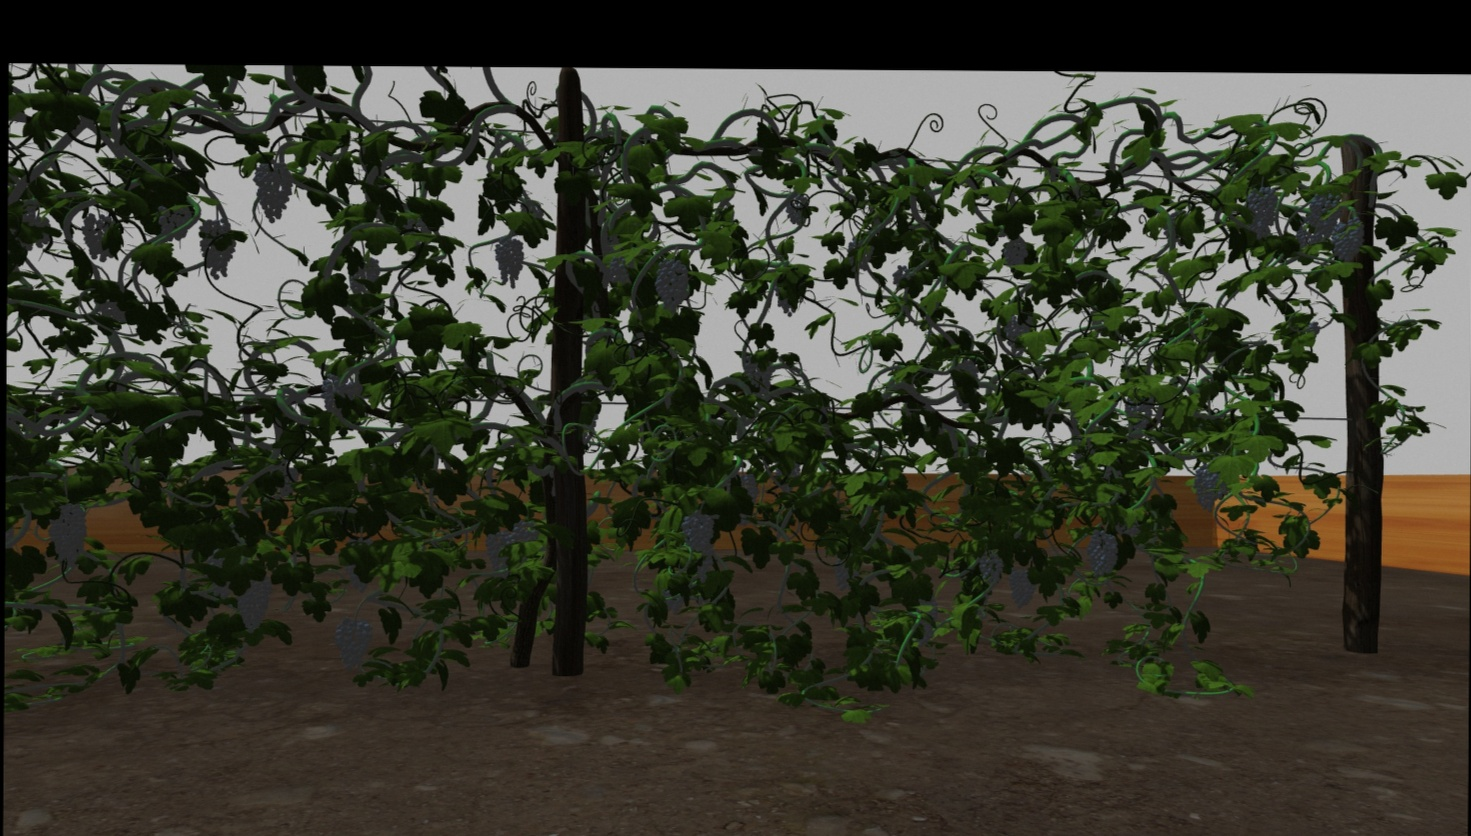grape: (46, 502, 88, 567), (252, 161, 293, 223), (197, 217, 235, 280), (334, 617, 372, 670), (654, 259, 689, 314), (236, 576, 272, 632), (80, 212, 117, 263), (320, 374, 362, 417), (493, 236, 524, 289), (1086, 528, 1118, 578), (1246, 186, 1276, 239), (1332, 215, 1364, 264), (1306, 191, 1340, 237), (681, 509, 716, 550), (1192, 465, 1222, 510), (156, 204, 191, 243), (744, 354, 775, 394), (1008, 566, 1036, 608), (485, 530, 512, 570), (1003, 314, 1031, 353), (979, 551, 1003, 587), (832, 558, 858, 591), (510, 519, 540, 547), (1003, 238, 1028, 267), (786, 194, 809, 225), (609, 256, 630, 283), (892, 264, 915, 284)
